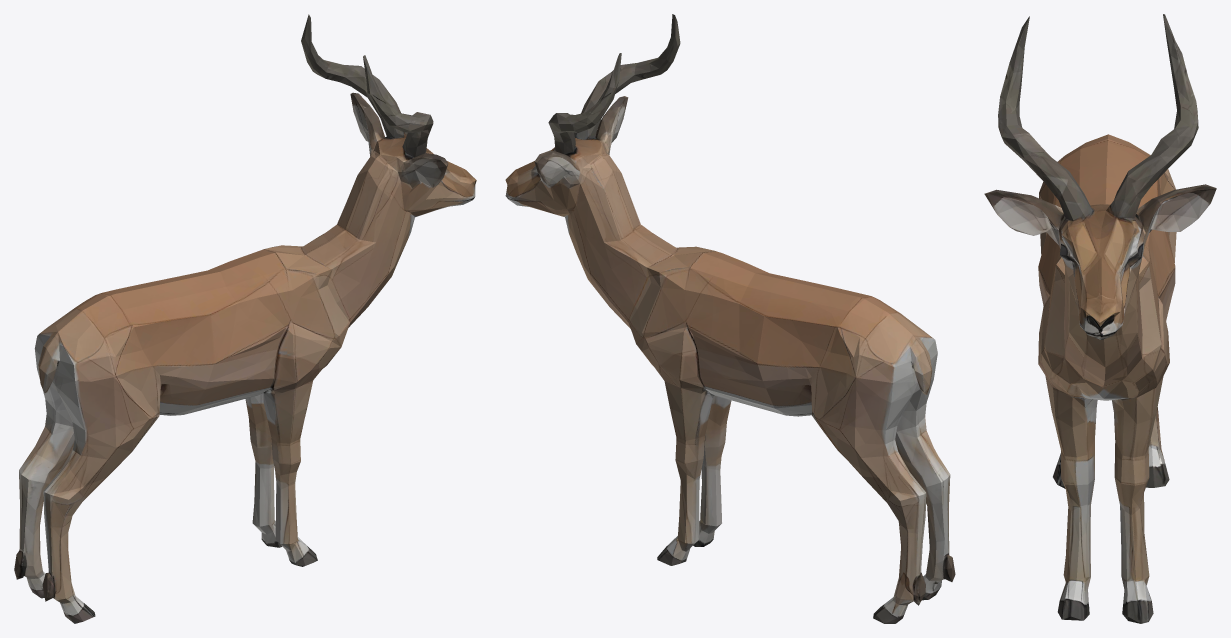
Rendered from Impala.glb.
3 renders of one model, left to right at view 1: azimuth 30°, elevation 25°; view 2: azimuth 150°, elevation 25°; view 3: azimuth 270°, elevation 25°, orthographic. The views are drawn at different scales.
Visible parts, largest first — view 1: tripo_node_f2d0e06f-46ca-478e-bc5e-98594fa39f1f; view 2: tripo_node_f2d0e06f-46ca-478e-bc5e-98594fa39f1f; view 3: tripo_node_f2d0e06f-46ca-478e-bc5e-98594fa39f1f.
Boxes of the visible parts, left/top/right/bottom form: tripo_node_f2d0e06f-46ca-478e-bc5e-98594fa39f1f: left=14, top=14, right=476, bottom=623; tripo_node_f2d0e06f-46ca-478e-bc5e-98594fa39f1f: left=505, top=14, right=955, bottom=623; tripo_node_f2d0e06f-46ca-478e-bc5e-98594fa39f1f: left=984, top=14, right=1216, bottom=623.
Size of the model in its own units: 0.9061 by 1 by 0.335.
1 material, 1 textured.
